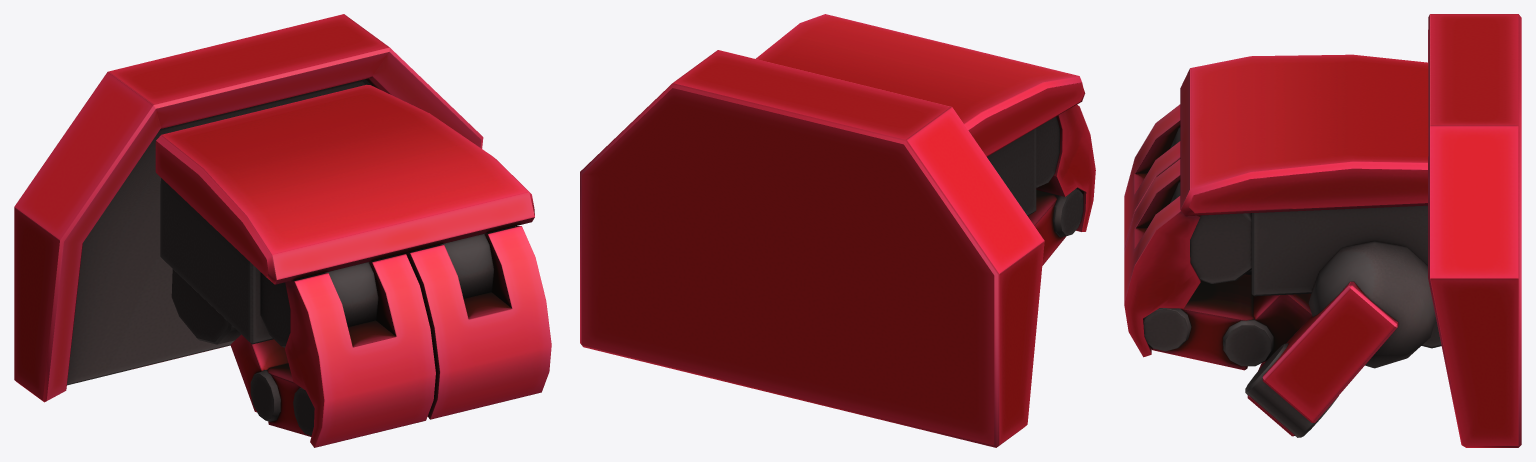
File: front_fist_1.fbx
3 renders of one model, left to right at view 1: azimuth 30°, elevation 25°; view 2: azimuth 150°, elevation 25°; view 3: azimuth 270°, elevation 25°, orthographic. The views are drawn at different scales.
Parts seen in each view (by area): view 1: Cube.070, Cube.015; view 2: Cube.015, Cube.070; view 3: Cube.070, Cube.015.
Part boxes in pixels (box(x1,y1,x2,y2)): Cube.070: box(155, 84, 551, 447); Cube.015: box(14, 14, 483, 402); Cube.015: box(580, 50, 1044, 447); Cube.070: box(756, 14, 1095, 265); Cube.070: box(1124, 54, 1441, 437); Cube.015: box(1428, 14, 1521, 447).
Bounding box in the file's own units: 124 × 88.39 × 104.
